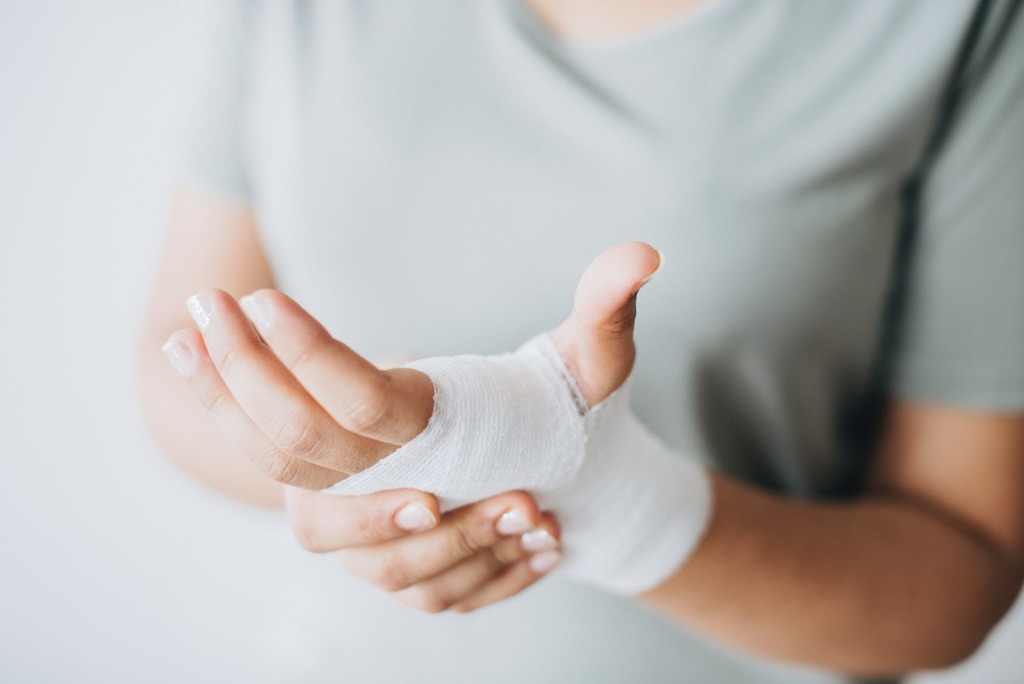injured: (182, 232, 805, 652)
